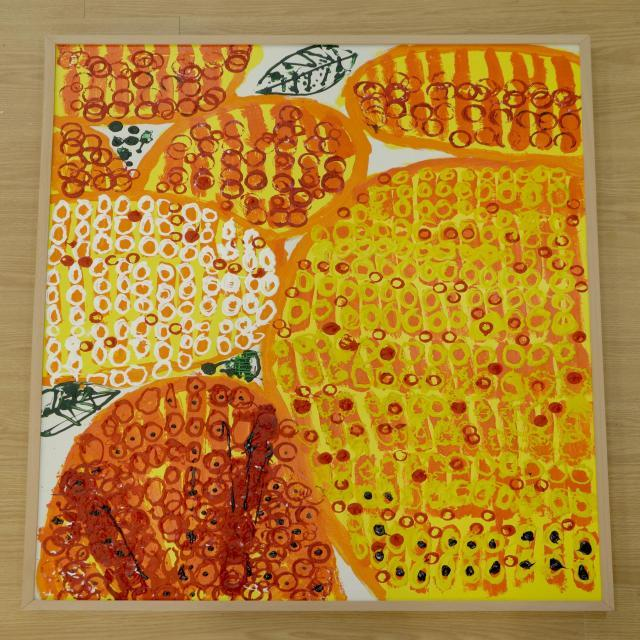painting: (24, 36, 612, 609)
